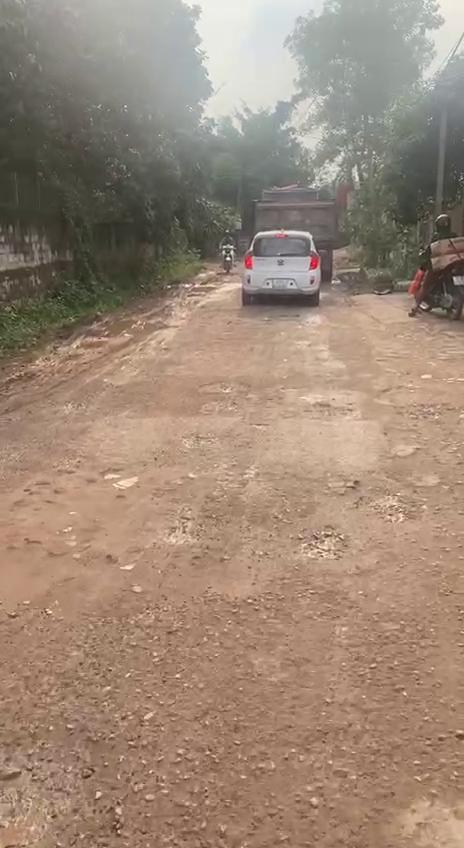pothole: (0, 719, 143, 848), (292, 527, 353, 565), (370, 491, 422, 525)
